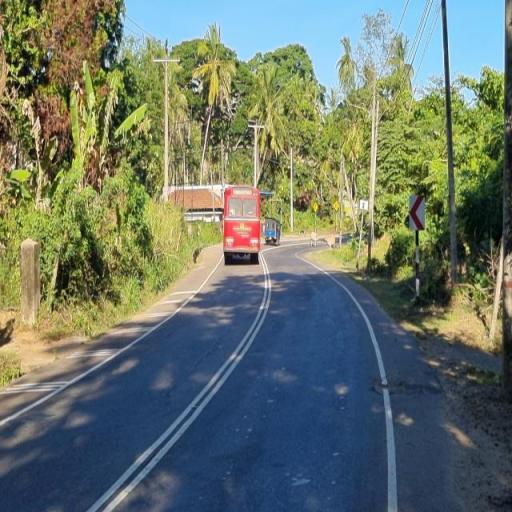double_white_line: (79, 249, 273, 512)
